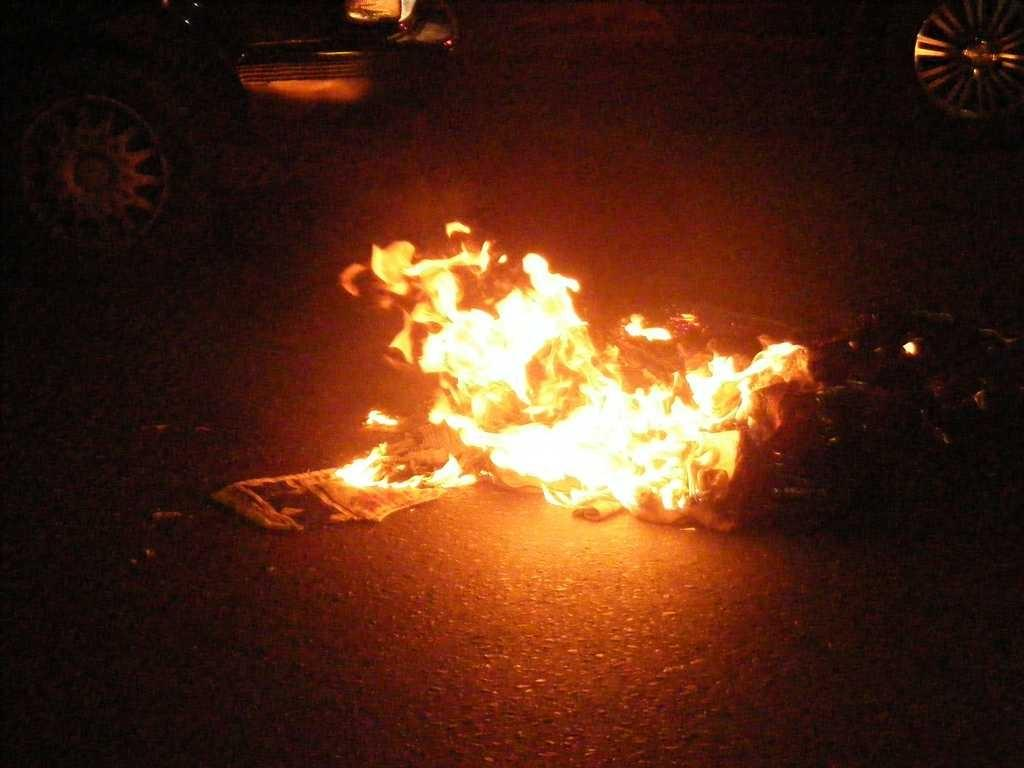fire: (510, 368, 754, 490), (414, 278, 584, 346)
